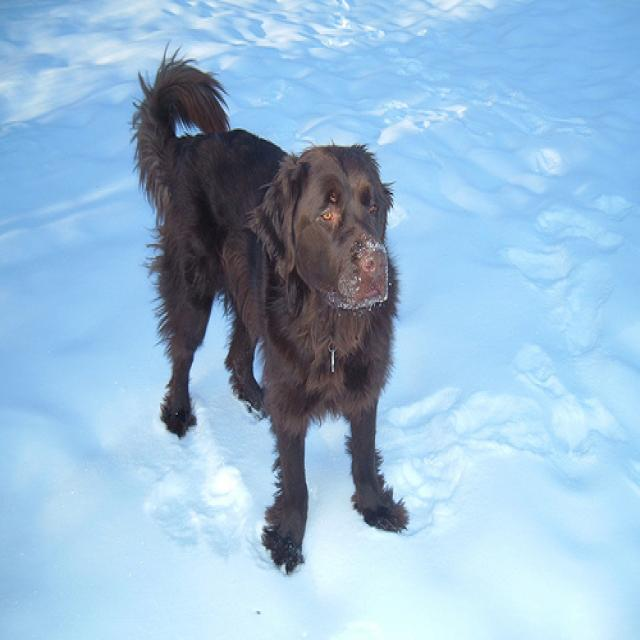dog-newfoundland: (127, 44, 415, 570)
